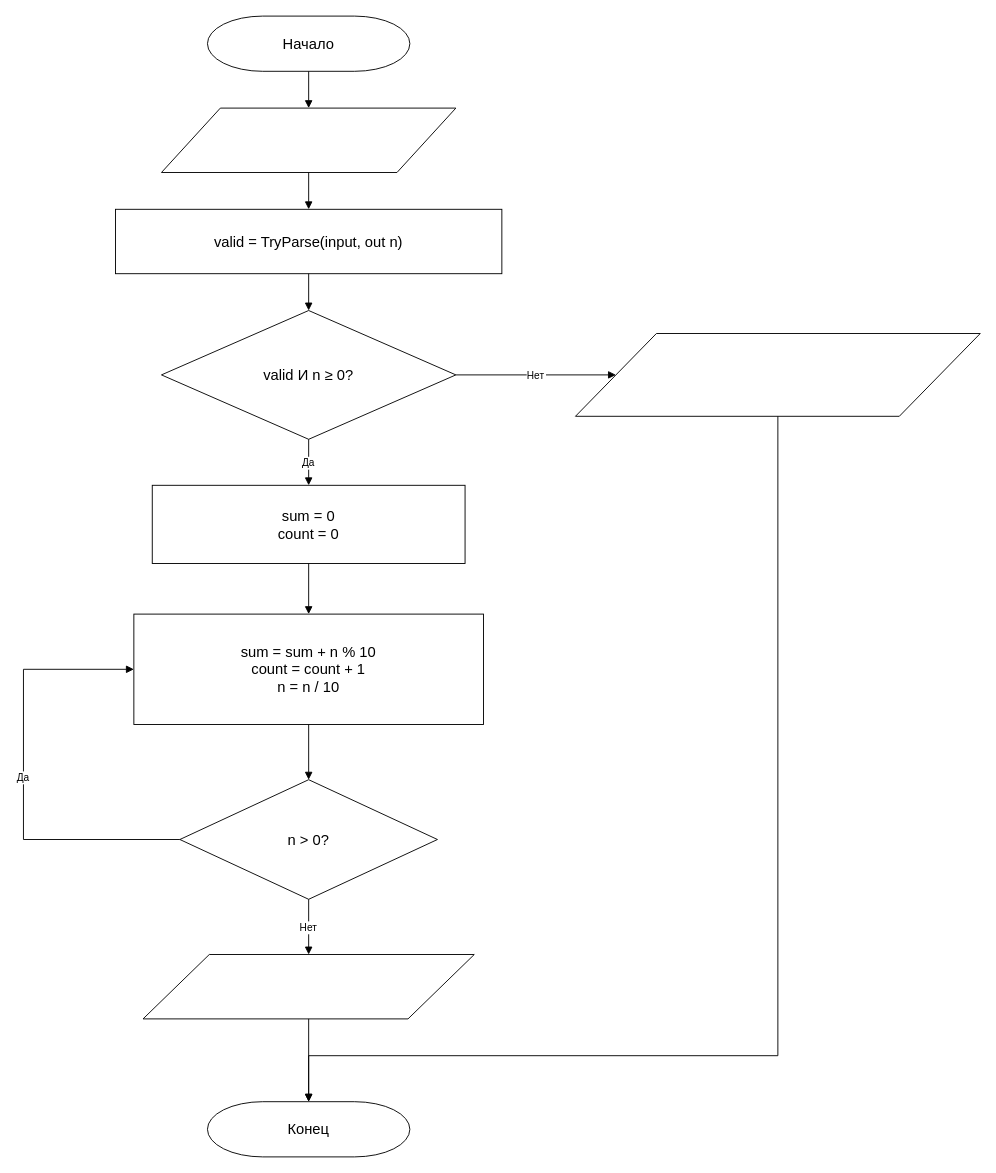
Image size: 996x1173. Some labels were removed from this diagram. Here are the shapes that lost their labels. From the top down, the centre of each, then its label:
the point at 308,139: Ввод input
the point at 777,374: Вывод: «Ошибка: введите целое неотрицательное число.»
the point at 308,986: Вывод count, sum
